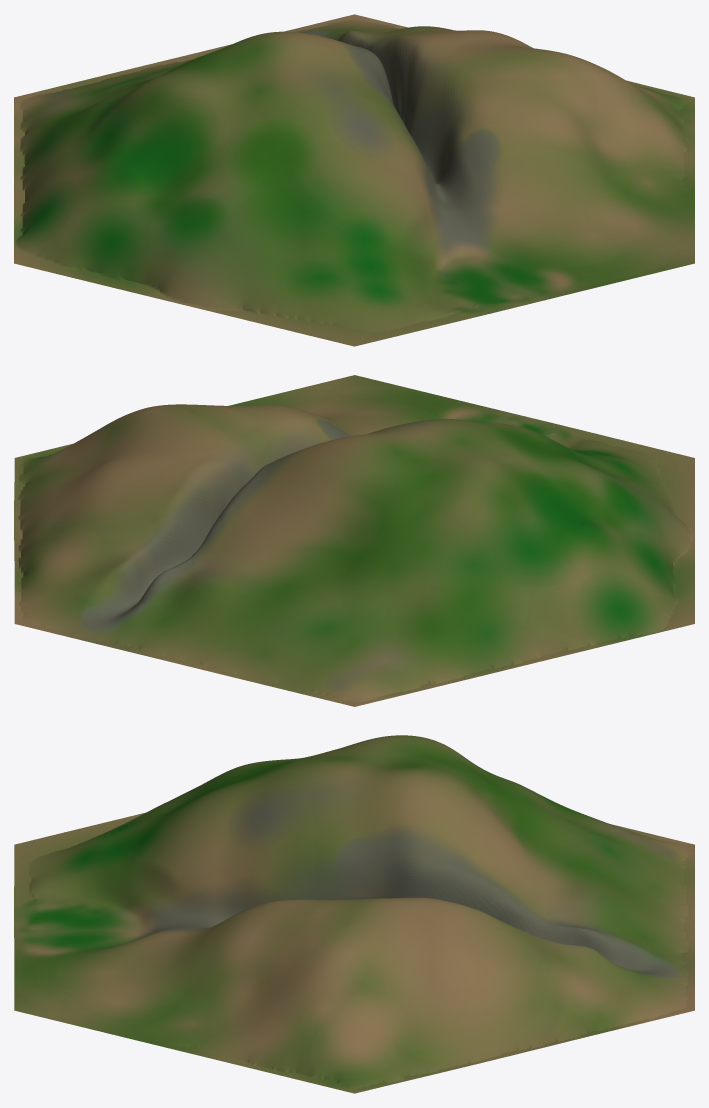
The model's file is Forest6.glb.
The picture shows the model from 3 angles, top to bottom: view 1: azimuth 30°, elevation 25°; view 2: azimuth 150°, elevation 25°; view 3: azimuth 270°, elevation 25°; orthographic projection.
Visible parts, largest first — view 1: Circle; view 2: Circle; view 3: Circle.
Boxes of the visible parts, <box> form: Circle: <box>14,14,694,346</box>; Circle: <box>14,375,694,706</box>; Circle: <box>14,735,694,1093</box>.
Bounding box in the file's own units: 400 × 73.7 × 347.
1 material, 1 textured.
